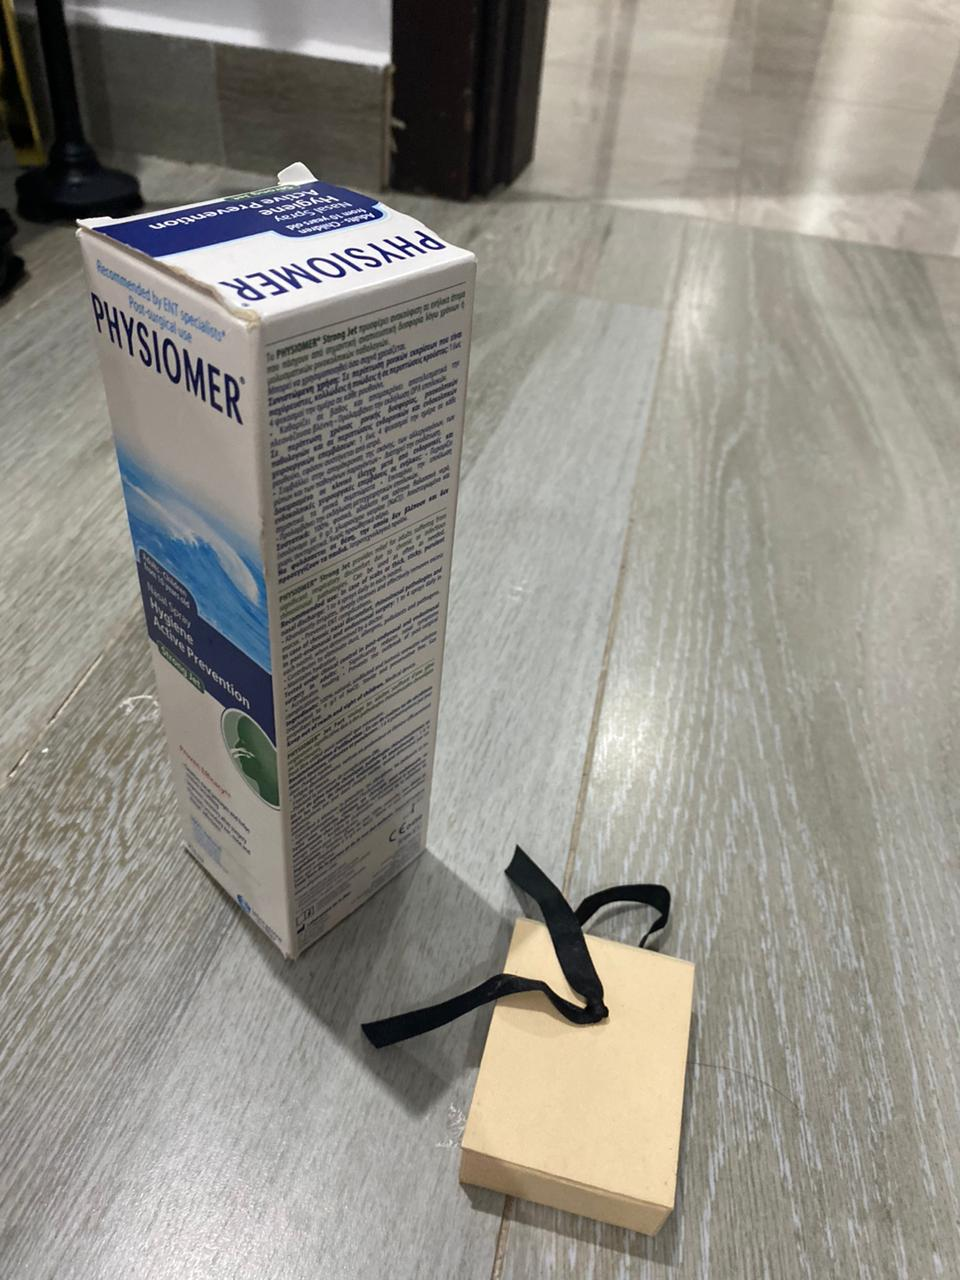Physiomer: (72, 160, 480, 970)
Yellow Box: (461, 911, 701, 1244)
